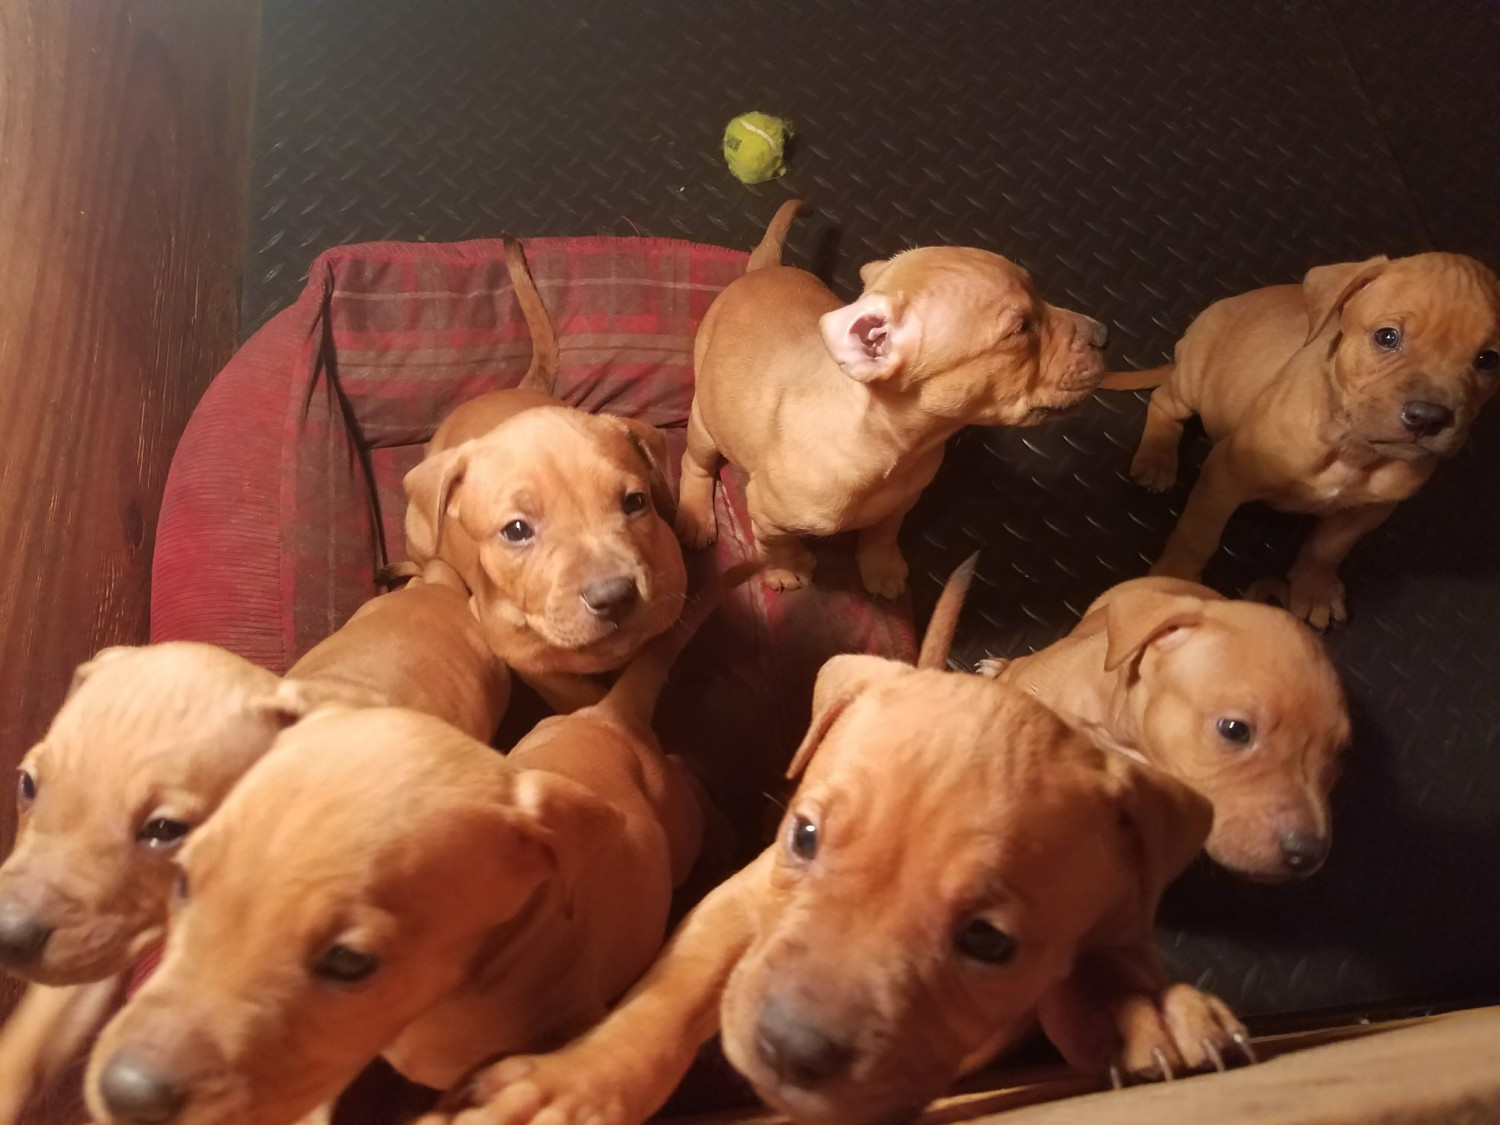am_pit_bull_terrier: (438, 550, 1259, 1125), (102, 552, 814, 1123), (0, 558, 509, 1124), (674, 200, 1107, 600), (1098, 251, 1499, 633), (400, 230, 689, 715), (974, 578, 1351, 887)
